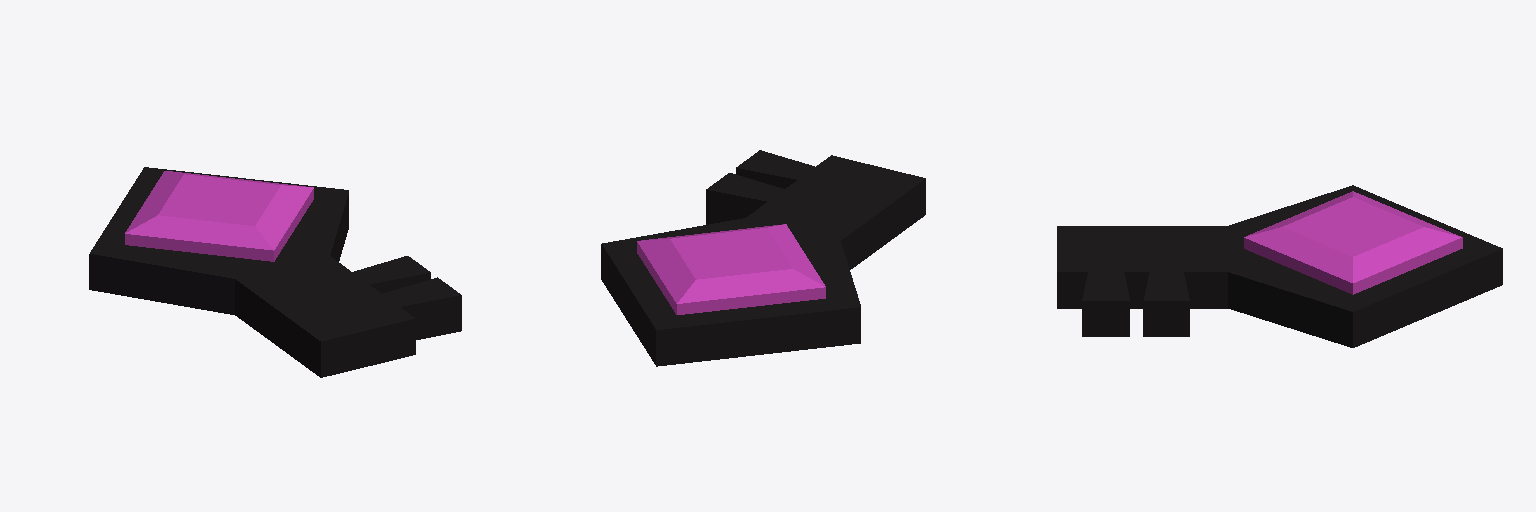
Rendered from JewelKey.obj.
3 renders of one model, left to right at view 1: azimuth 30°, elevation 25°; view 2: azimuth 150°, elevation 25°; view 3: azimuth 270°, elevation 25°, orthographic.
Size of the model in its own units: 2.83 by 0.603 by 4.2.